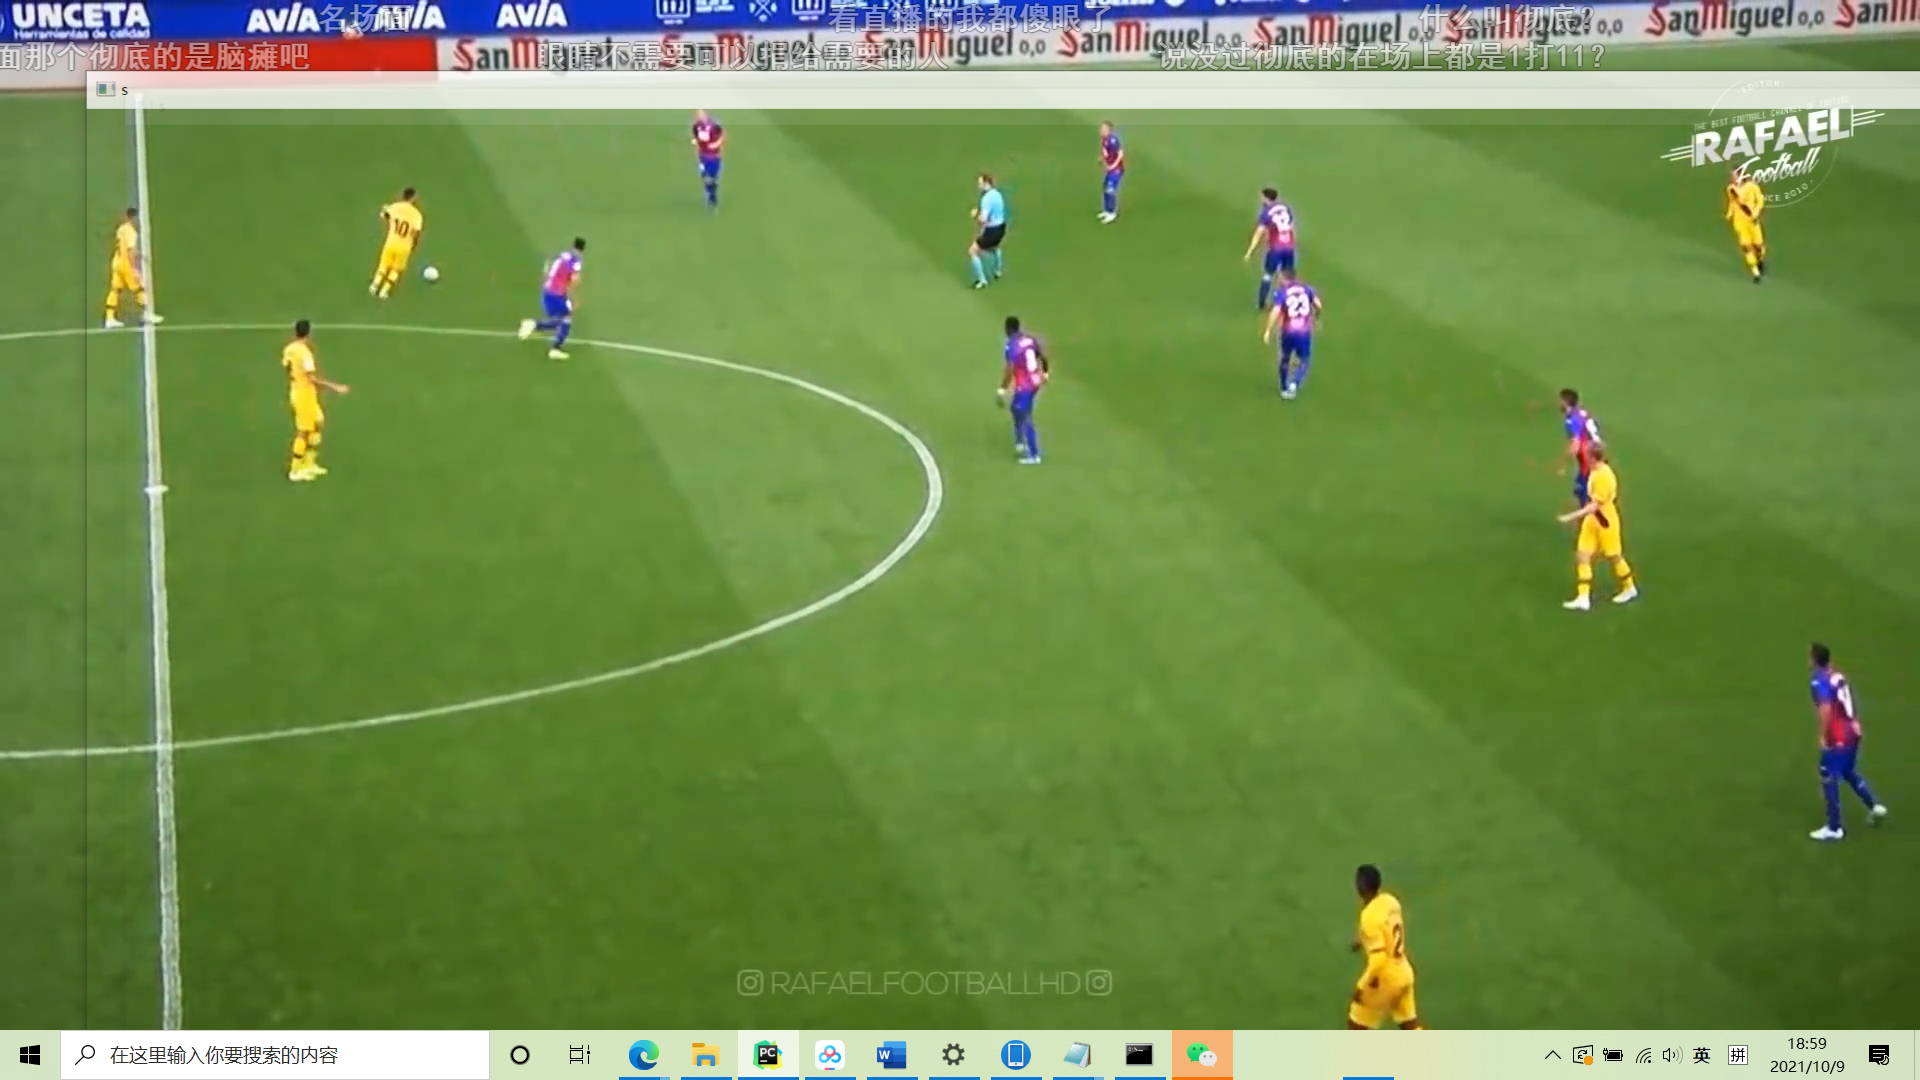ft: (419, 262, 446, 287)
